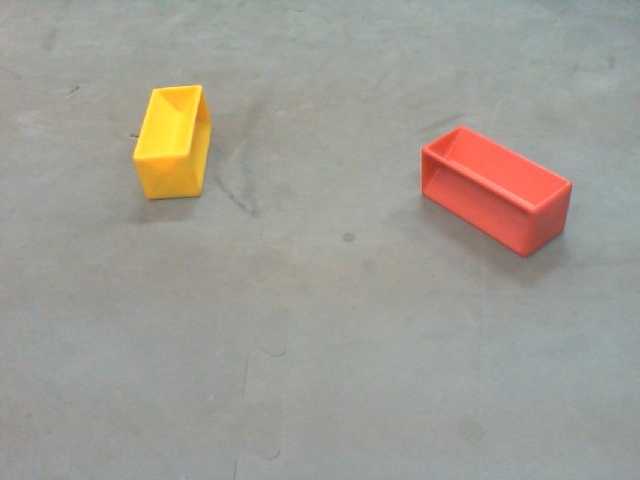RedSample: (421, 126, 575, 255)
YellowSample: (130, 86, 211, 203)
